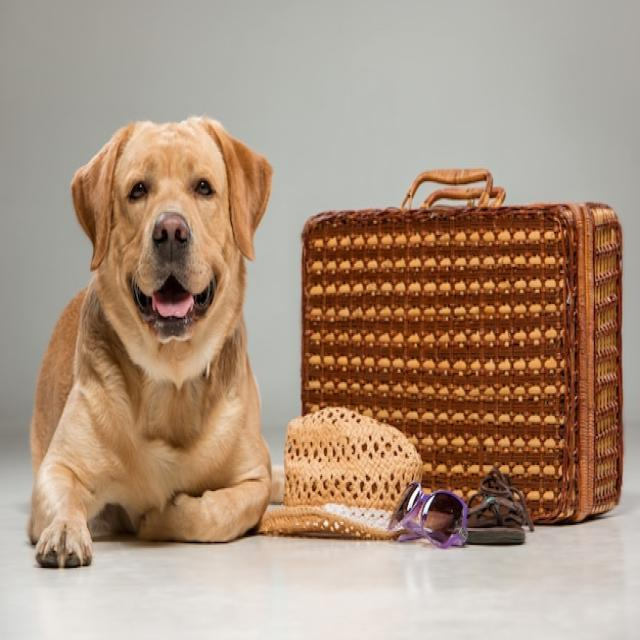Dog: (27, 117, 273, 570)
